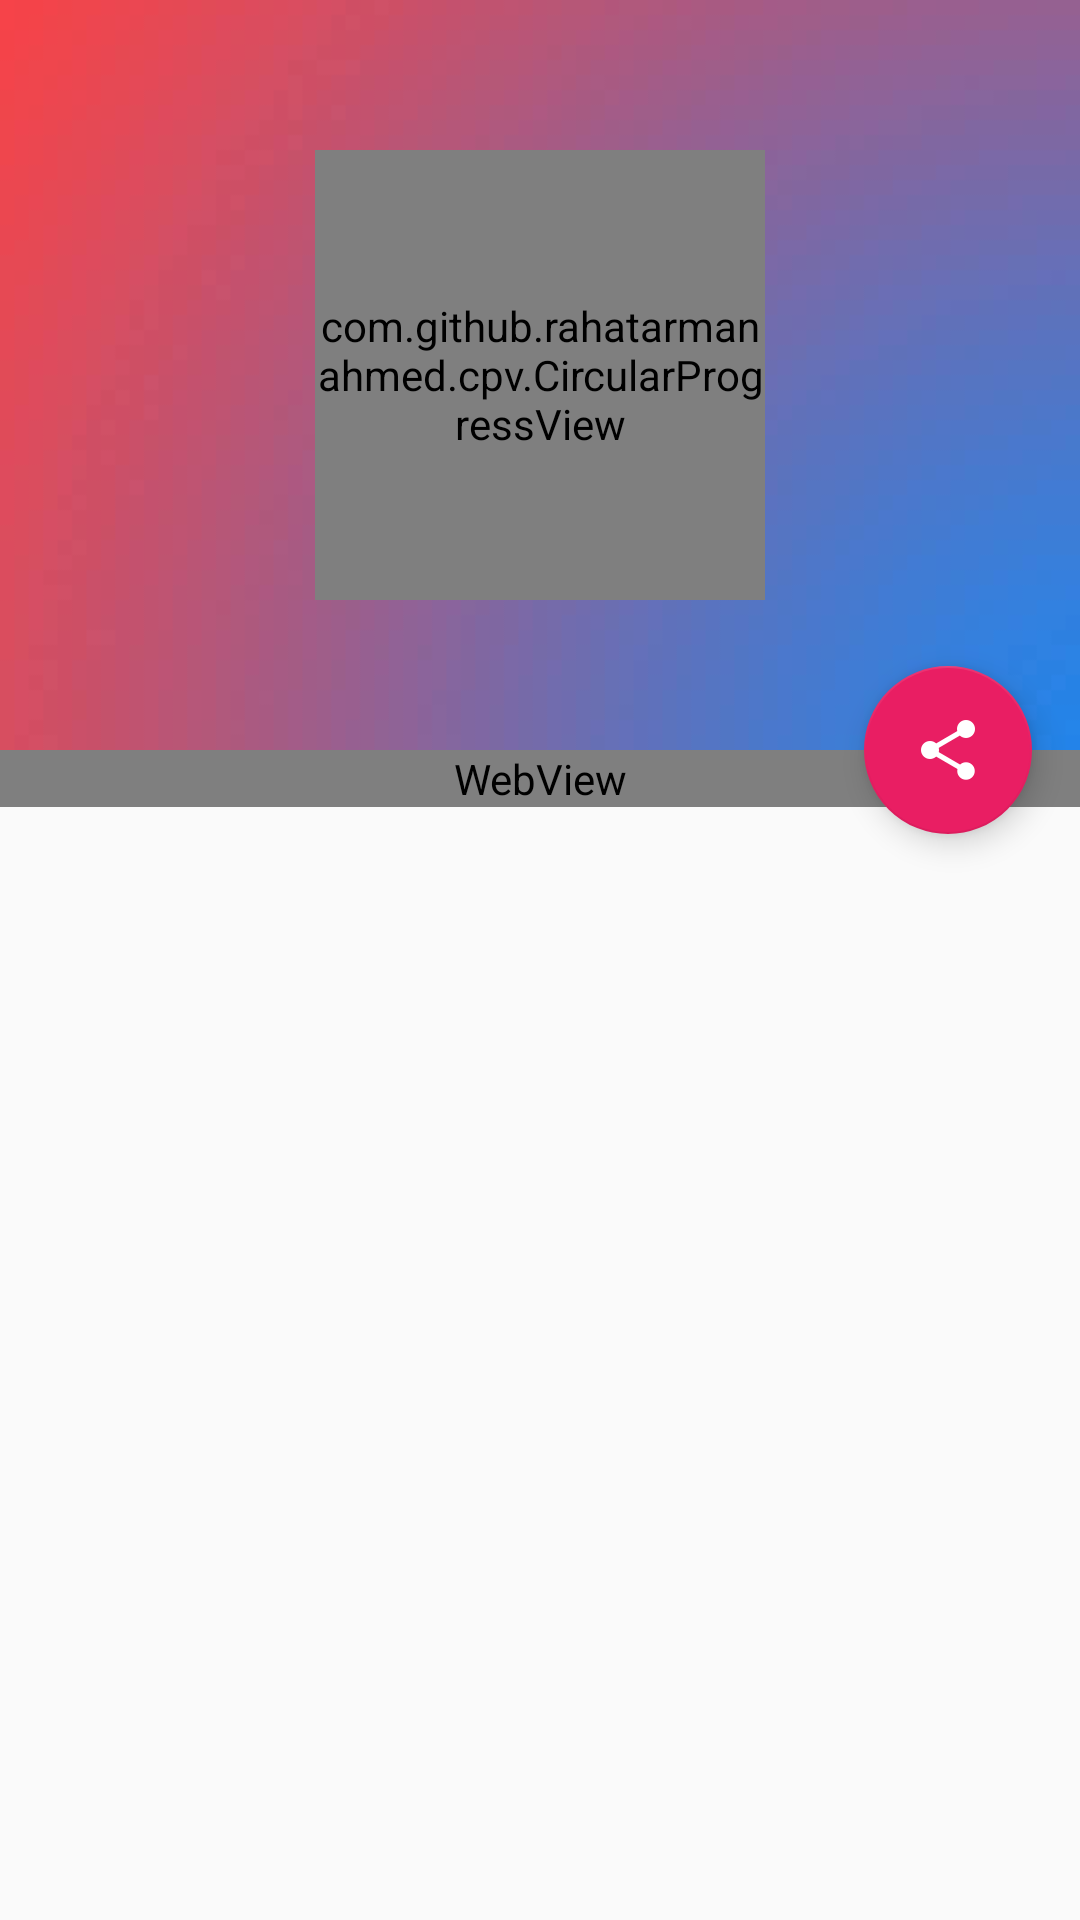

Icons on this 1080 x 1920 Android screen, each with the point to tap as point (x, y):
share: point (948, 750)
